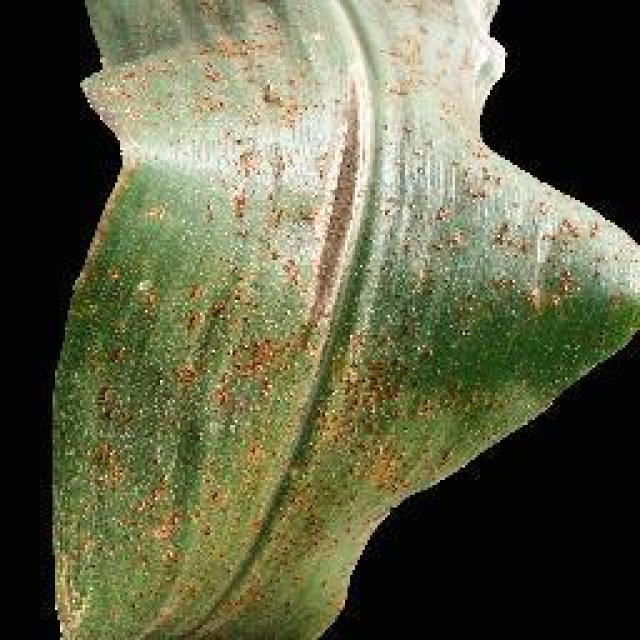Corn Common Rust: (86, 47, 532, 633)
